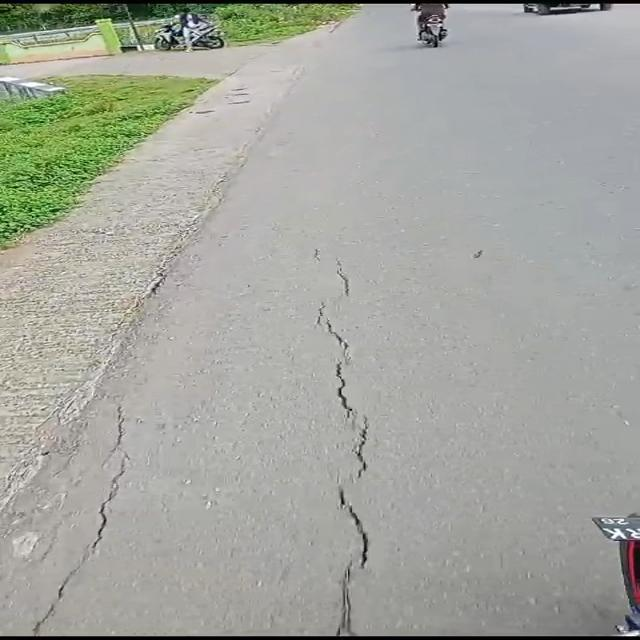Memanjang: (304, 250, 385, 640), (11, 398, 139, 639)
